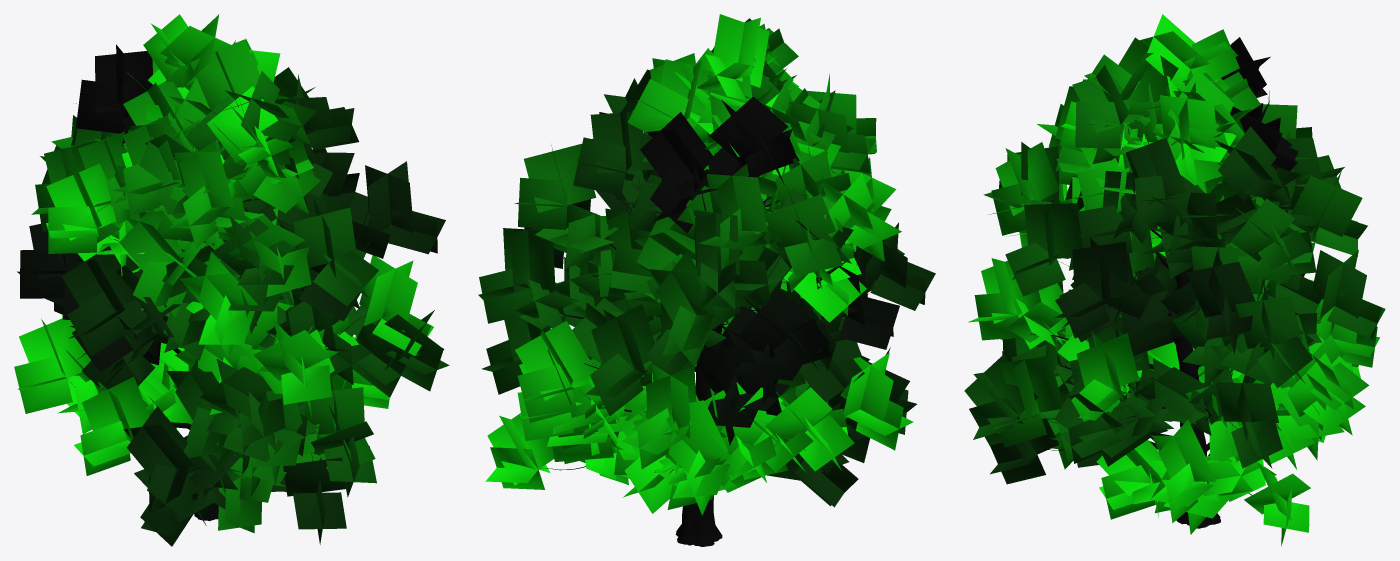
The model's file is Type_1_3.fbx.
The picture shows the model from 3 angles, left to right: view 1: azimuth 30°, elevation 25°; view 2: azimuth 150°, elevation 25°; view 3: azimuth 270°, elevation 25°; orthographic projection. The views are drawn at different scales.
Visible parts, largest first — view 1: Type_1_3; view 2: Type_1_3; view 3: Type_1_3.
Part boxes in pixels (box(x1,y1,x2,y2)): Type_1_3: box(14, 14, 449, 546); Type_1_3: box(478, 14, 935, 546); Type_1_3: box(964, 14, 1385, 546).
Bounding box in the file's own units: 356 × 472 × 372.
